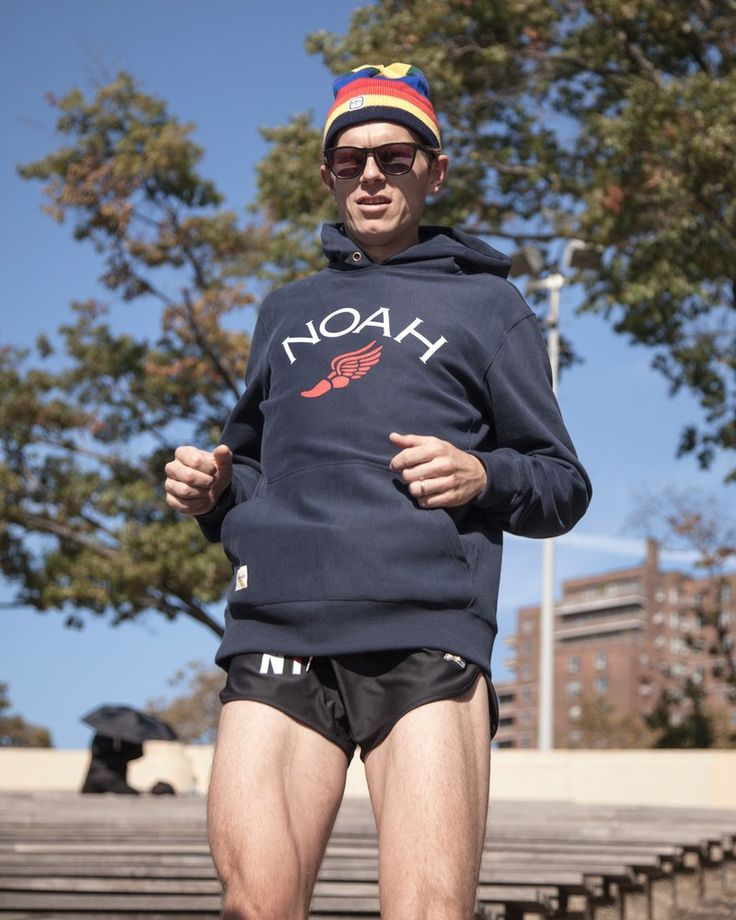egg: (73, 92, 661, 828)
